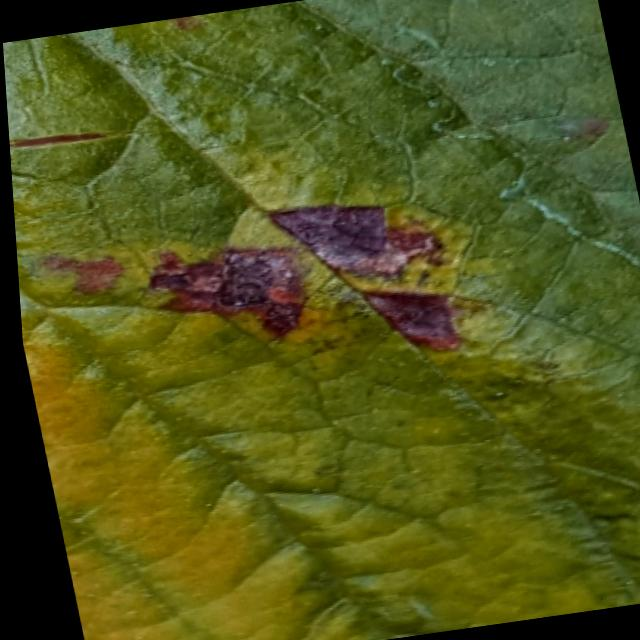Angular Leafspot: (2, 11, 640, 609)
